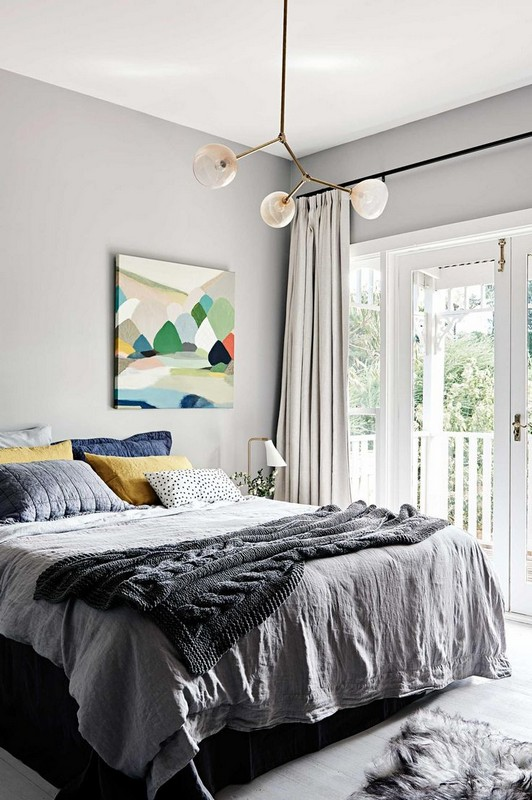bed: (4, 421, 513, 779)
door: (359, 242, 518, 614)
lamp: (248, 434, 293, 509)
